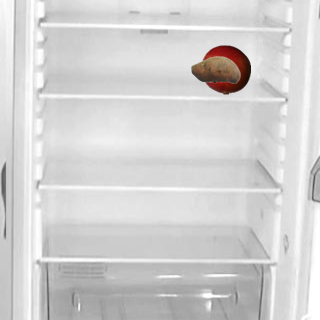Apple Braeburn: (200, 44, 250, 94)
Potato Sweet: (190, 44, 240, 94)
